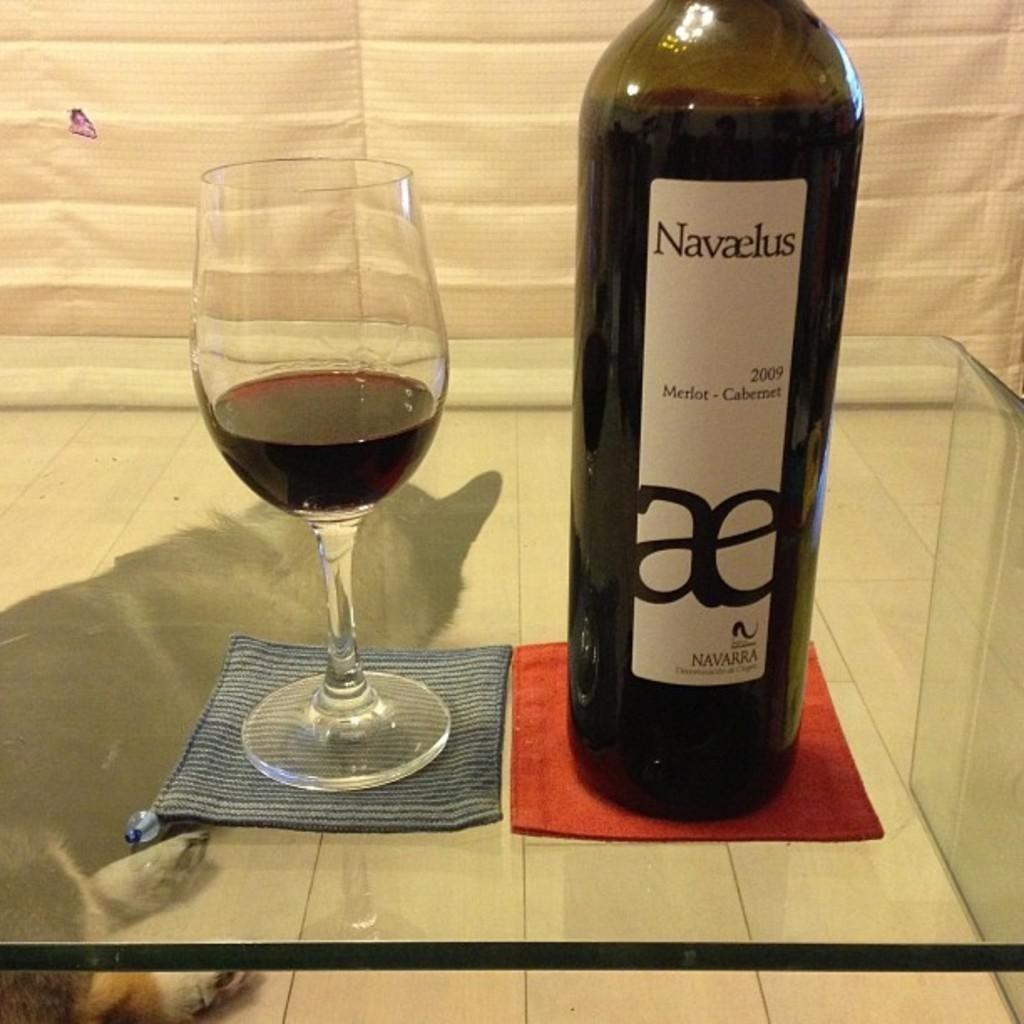bottle-glass: (559, 1, 872, 827)
glass-wine: (186, 151, 453, 793)
